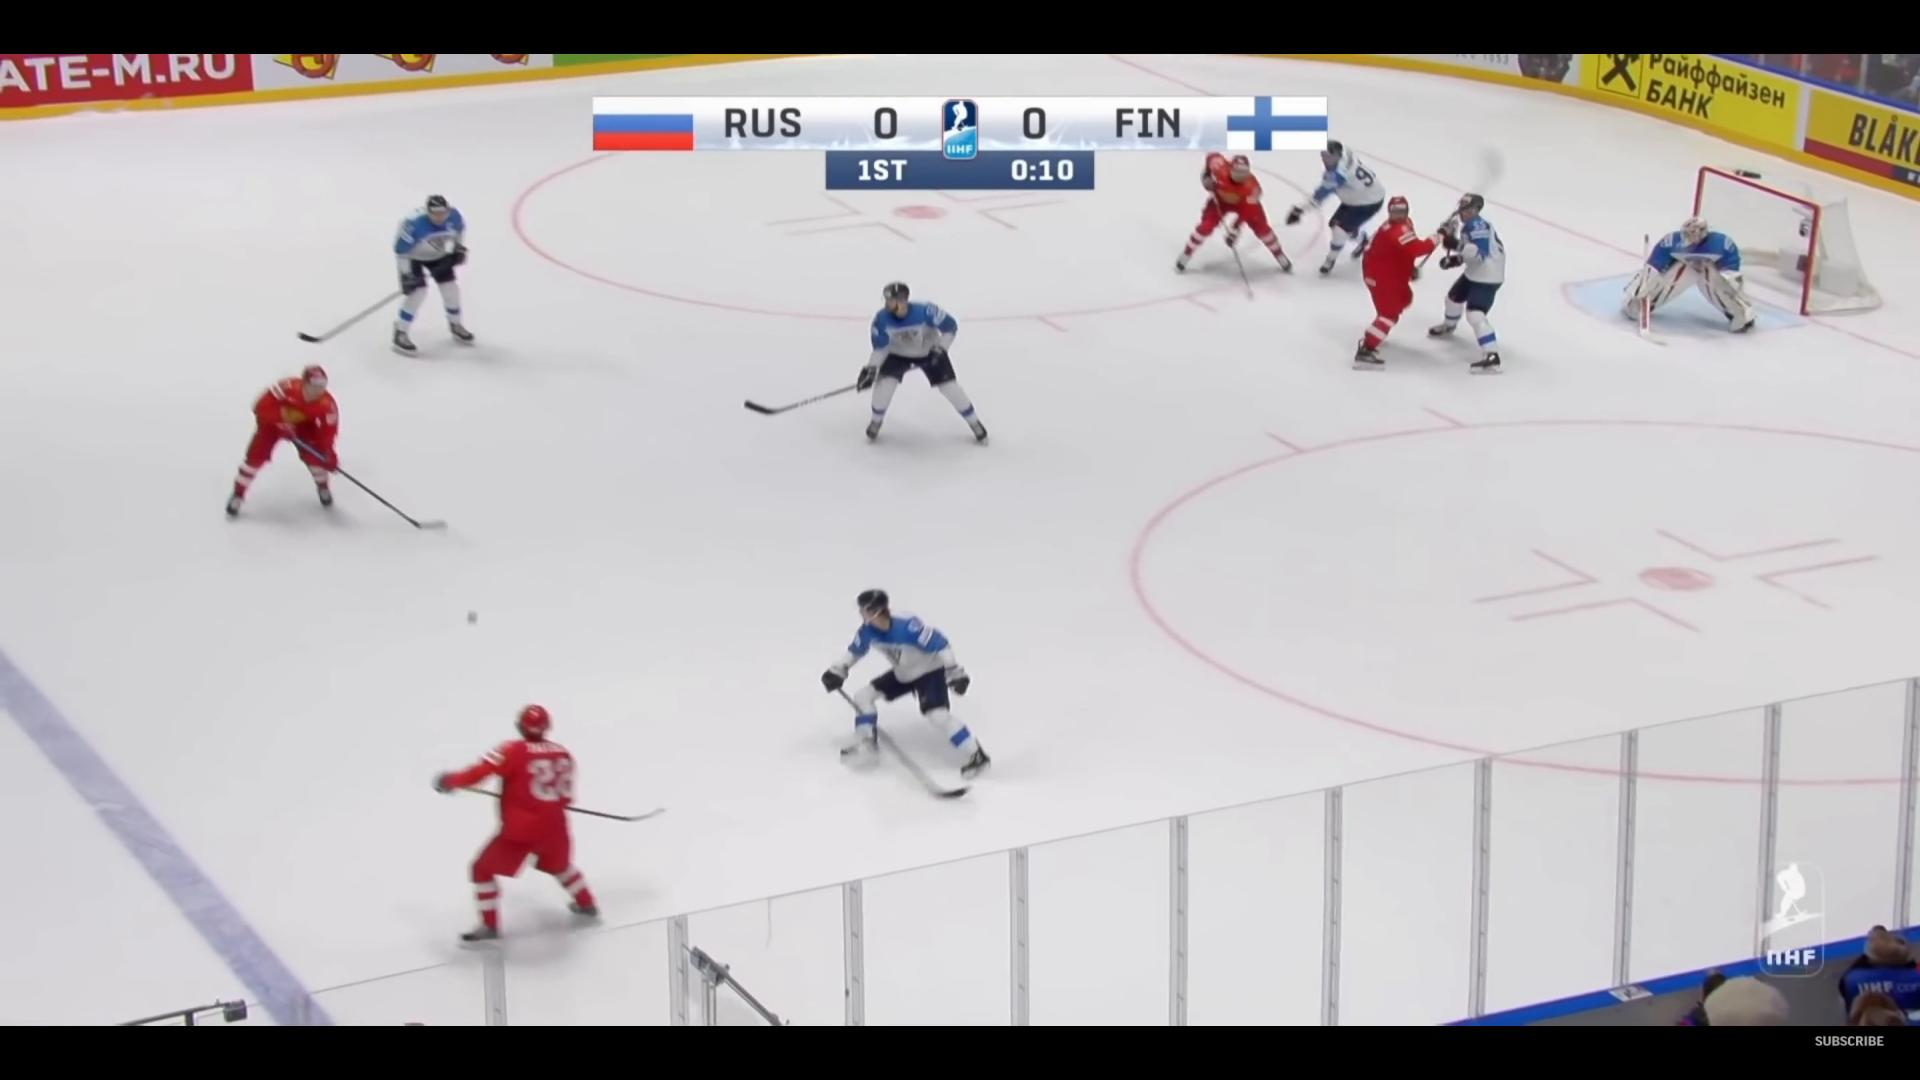puck: (467, 611, 479, 622)
